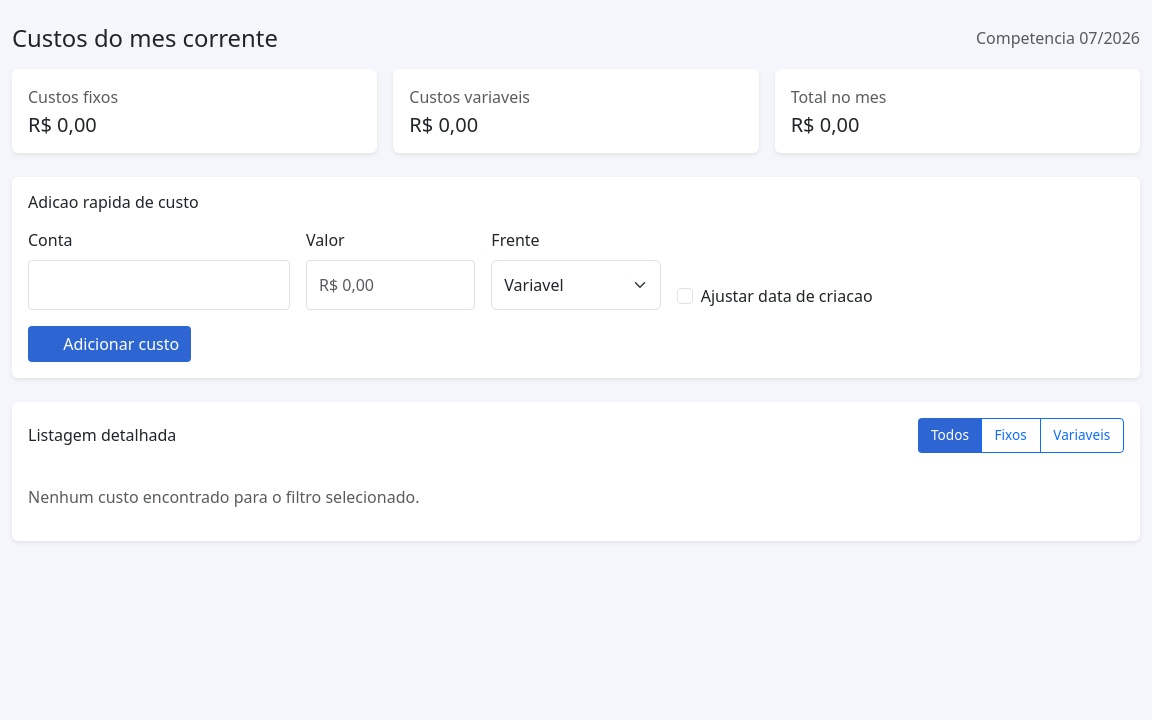
it: CostsPage › exibe campo de parcelas apenas para frente fixa
The width and height of the screenshot is (1152, 720).
Expected: the field labelled "Parcelas" is not shown
Select "Fixo" in the dropdown labelled "Frente". click: (576,285)
box: [491,260,661,310]
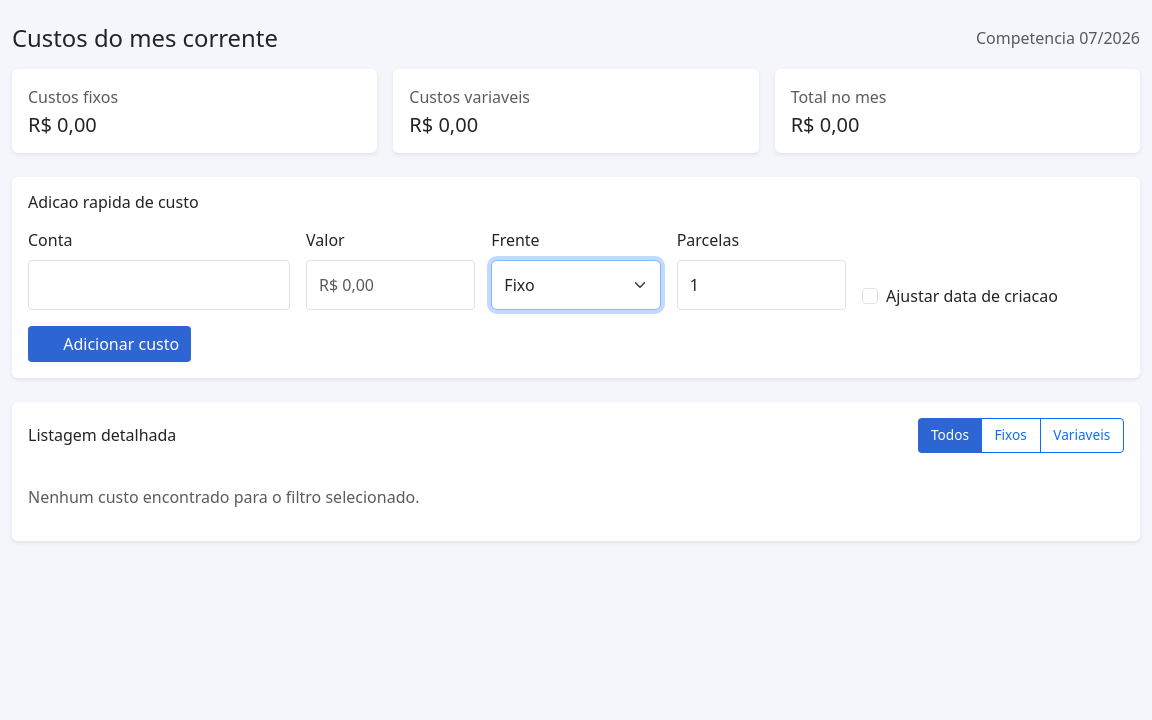
Expected: the number field labelled "Parcelas" is shown, [677,260,846,310]
Select "Variavel" in the dropdown labelled "Frente". click: (576,285)
box: [491,260,661,310]
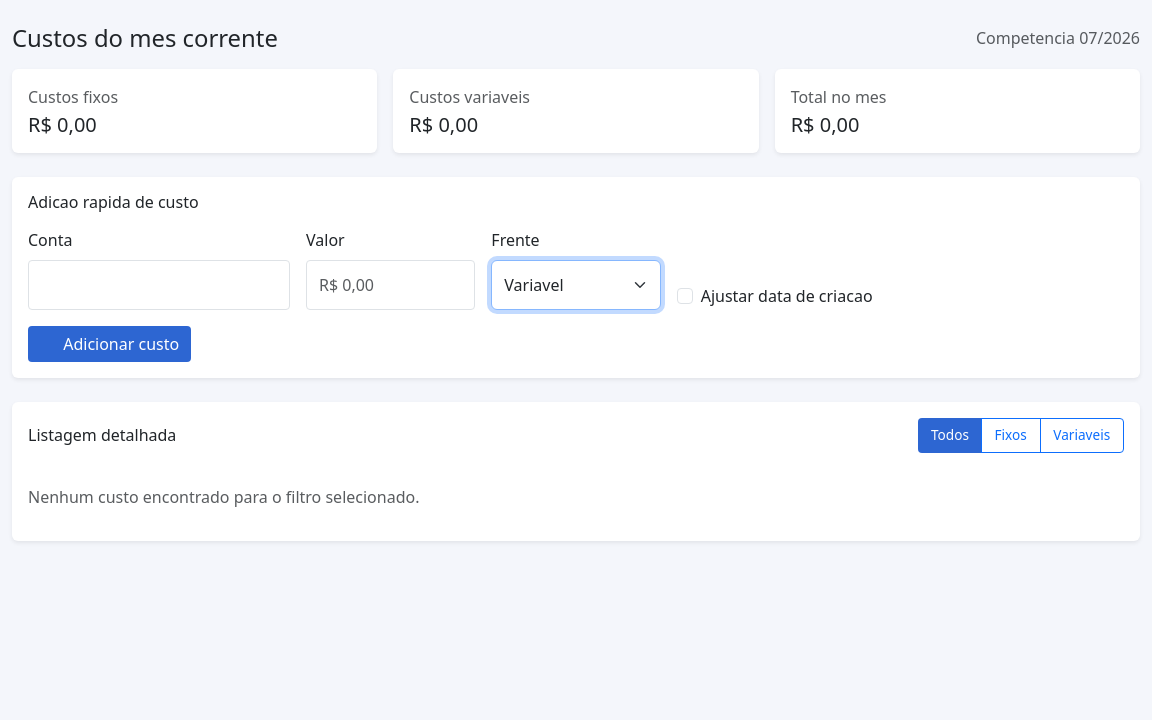
Expected: the label labelled "Parcelas" is gone
